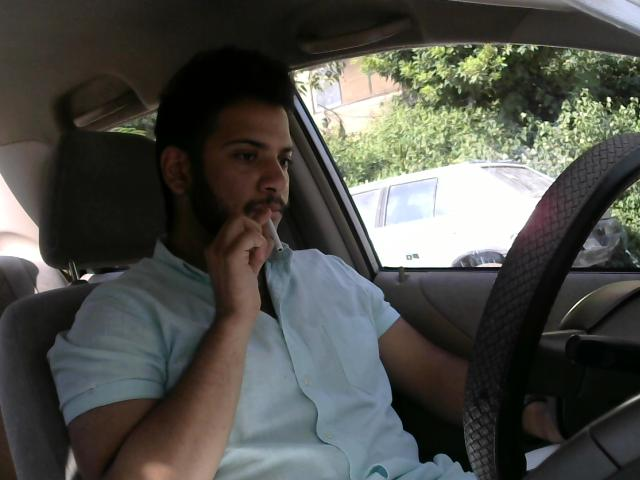Smoking: (264, 209, 289, 252)
